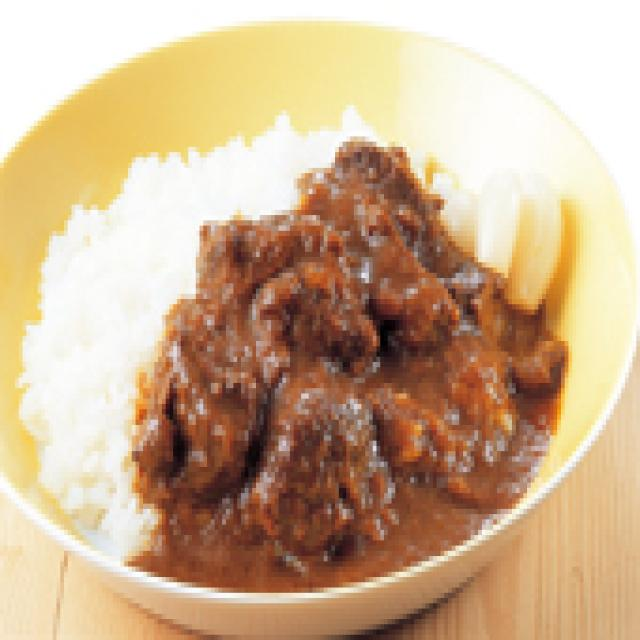牛肉菜式: (0, 10, 640, 640)
